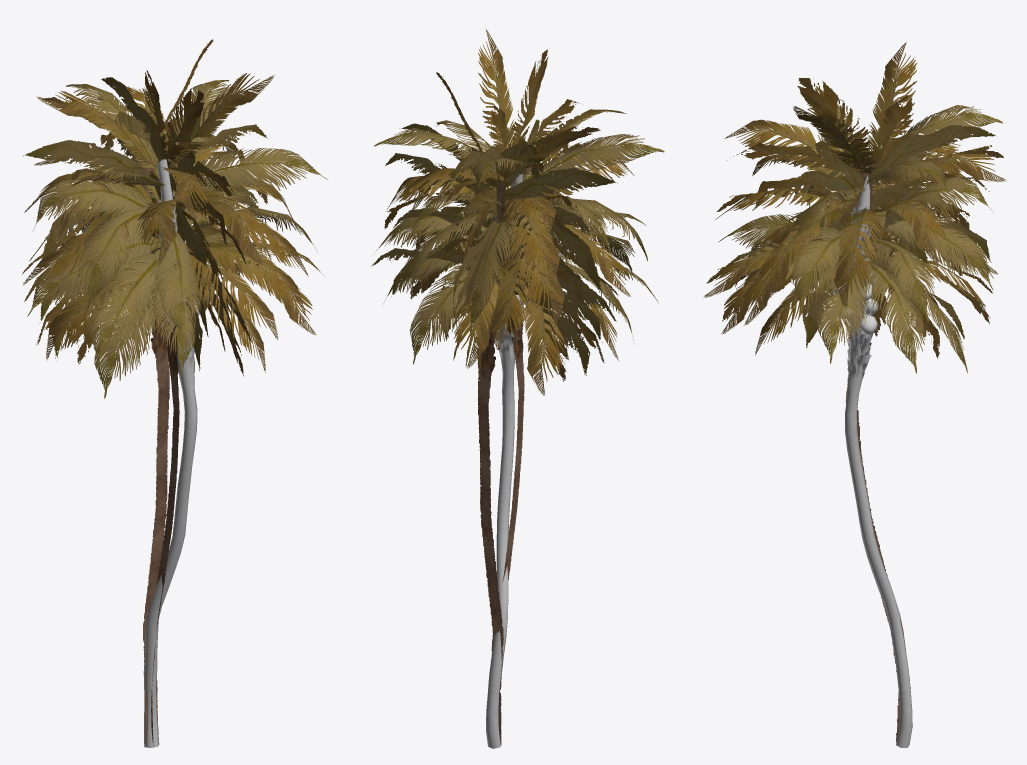
The model's file is Palm4.fbx.
3 renders of one model, left to right at view 1: azimuth 30°, elevation 25°; view 2: azimuth 150°, elevation 25°; view 3: azimuth 270°, elevation 25°, orthographic. The views are drawn at different scales.
Parts seen in each view (by area): view 1: LOD0, Billboard; view 2: LOD0, Billboard; view 3: LOD0, Billboard.
Boxes of the visible parts, x1,y1,x2,y2 form: LOD0: [22, 73, 327, 747]; Billboard: [22, 39, 279, 746]; LOD0: [374, 29, 664, 748]; Billboard: [371, 49, 618, 745]; LOD0: [704, 42, 1006, 747]; Billboard: [706, 78, 1003, 742].
Size of what is drawn, in the model's own units: 533 by 1274 by 538.
